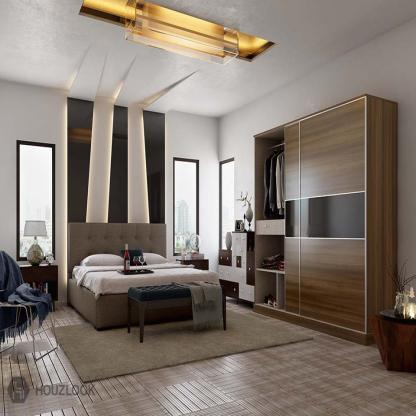Bed: (67, 216, 223, 328)
Carpet: (52, 307, 306, 382)
Closet: (284, 98, 382, 342)
Lamp: (20, 216, 52, 274)
Wall Panel: (64, 91, 171, 265)
Window: (16, 140, 56, 264), (172, 158, 200, 256), (220, 155, 236, 257)
Wooden floor: (79, 330, 416, 416)
